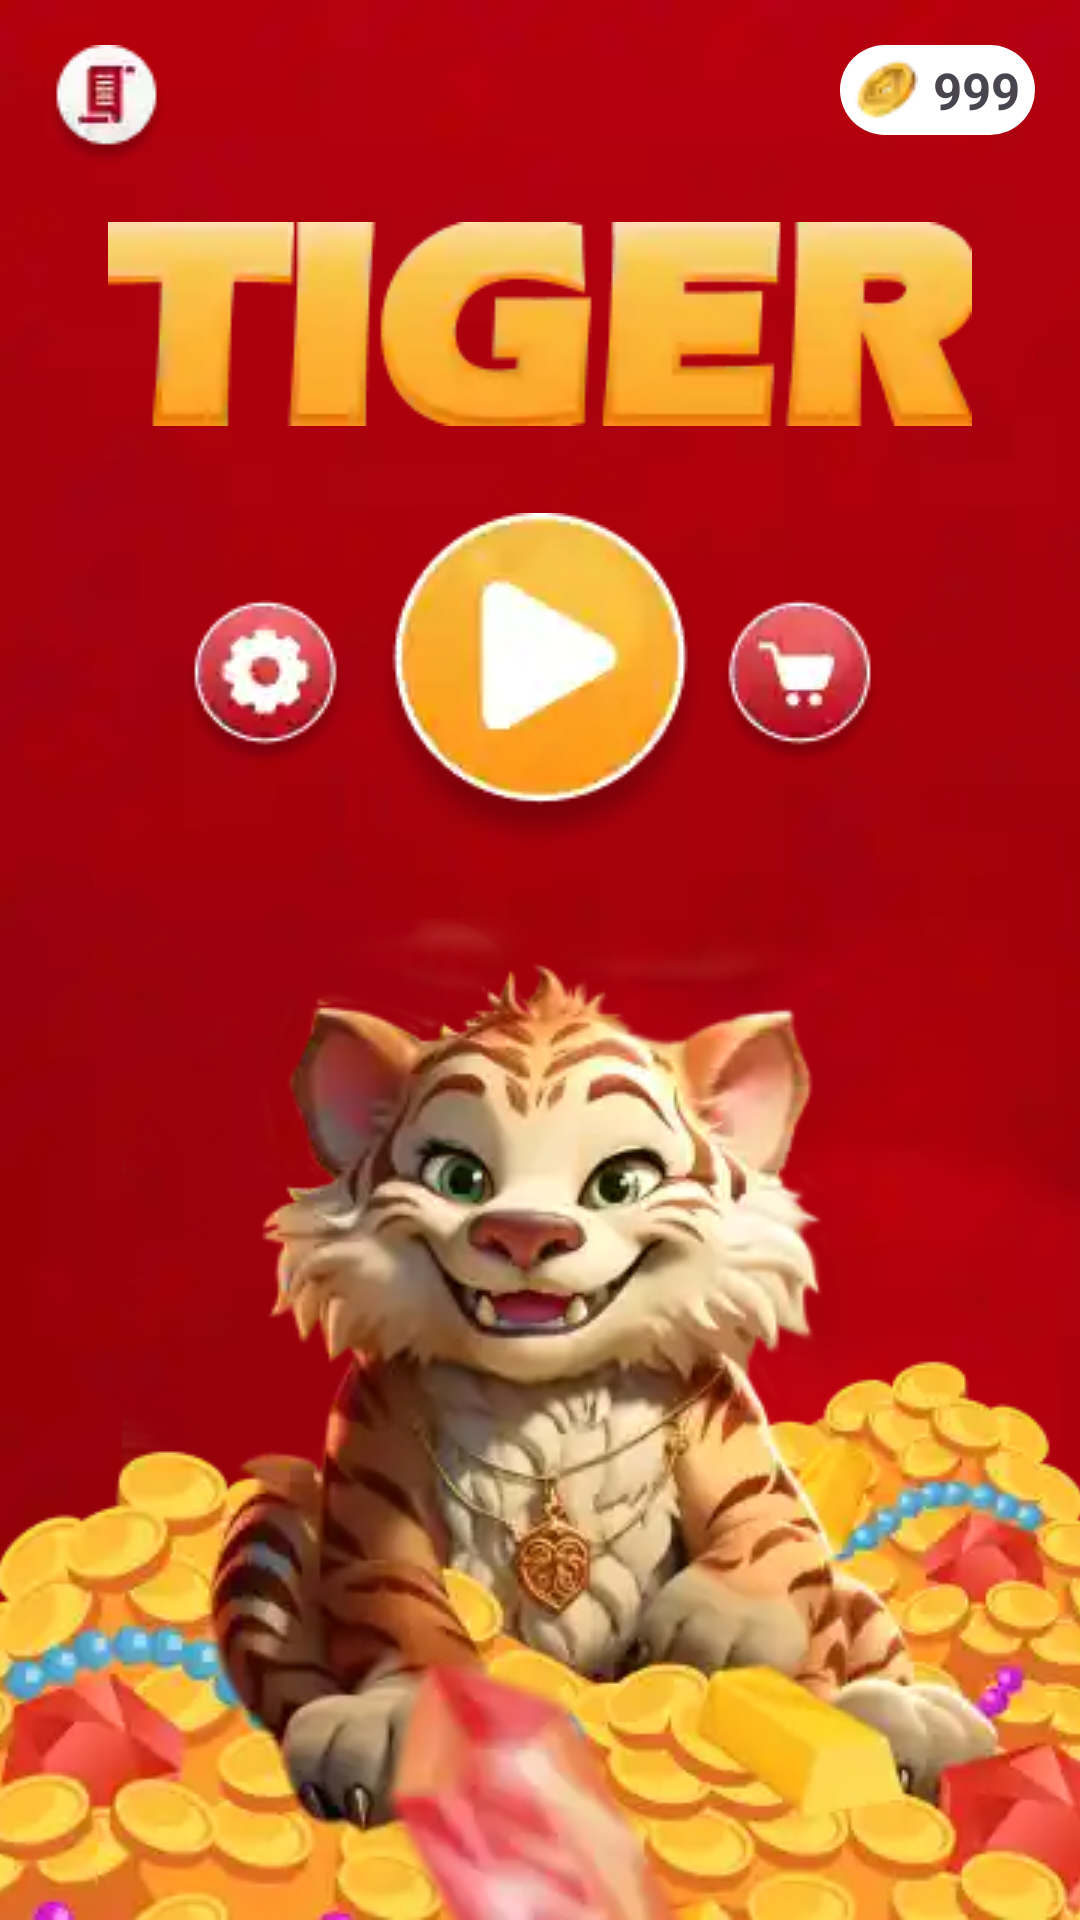

Icons on this 1080w x 1920h Android screen, each with its box as (x1, y1, x2, y2):
coin balance: (840, 45, 918, 135)
play: (392, 513, 688, 829)
privacy: (56, 45, 157, 155)
settings: (194, 600, 337, 753)
shop: (728, 600, 871, 754)
